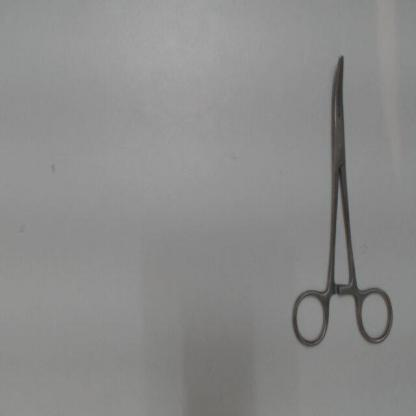Crile Artery Forceps: (284, 44, 402, 359)
